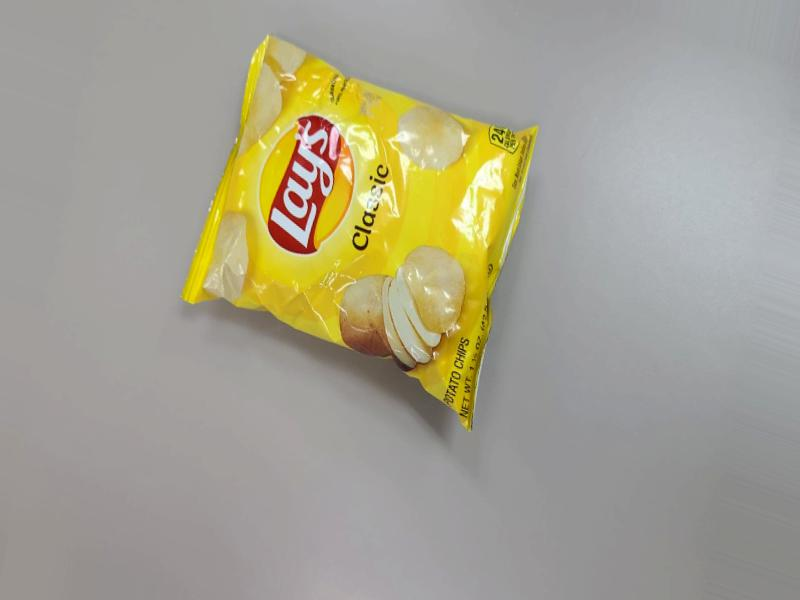lays: (138, 17, 546, 447)
